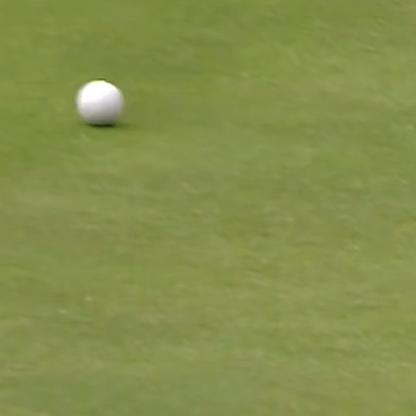golfball: (75, 76, 125, 124)
